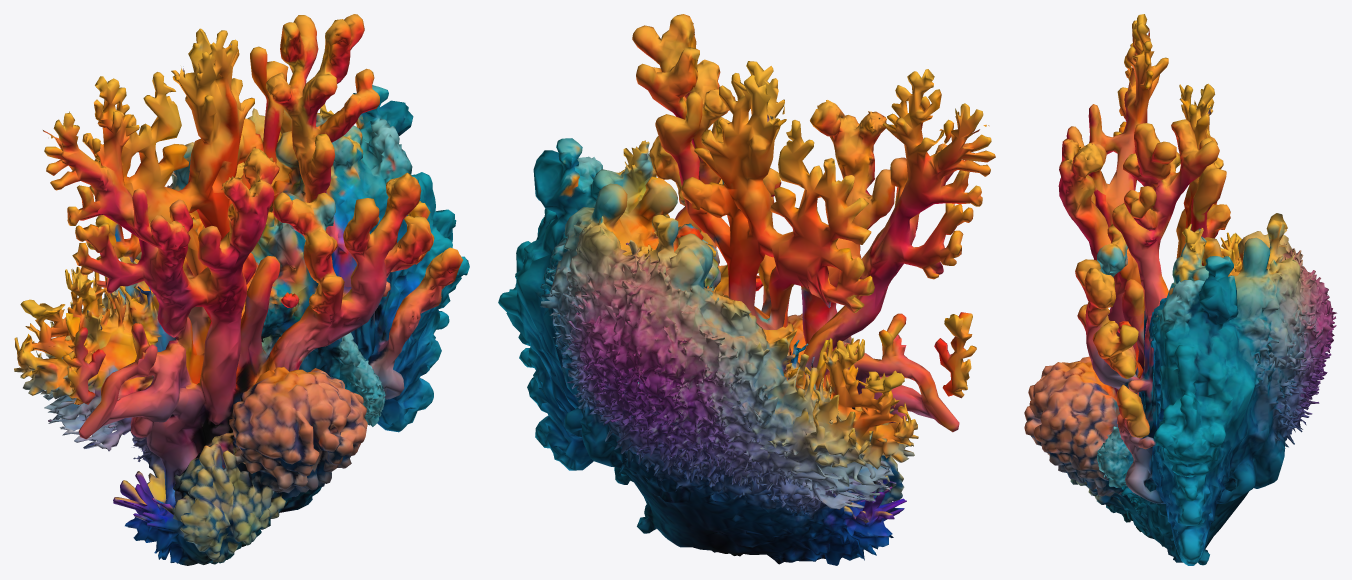
File: gm-coral-50k-2k-695c22cd2568.glb
3 views of the same model, side by side, from view 1: azimuth 30°, elevation 25°; view 2: azimuth 150°, elevation 25°; view 3: azimuth 270°, elevation 25° (orthographic). The views are drawn at different scales.
Visible parts, largest first — view 1: tripo_node_734b240a-095e-43ec-9f8c-8fe84a7f286d; view 2: tripo_node_734b240a-095e-43ec-9f8c-8fe84a7f286d; view 3: tripo_node_734b240a-095e-43ec-9f8c-8fe84a7f286d.
Boxes of the visible parts, left/top/right/bottom form: tripo_node_734b240a-095e-43ec-9f8c-8fe84a7f286d: left=14, top=14, right=469, bottom=565; tripo_node_734b240a-095e-43ec-9f8c-8fe84a7f286d: left=498, top=14, right=995, bottom=565; tripo_node_734b240a-095e-43ec-9f8c-8fe84a7f286d: left=1024, top=14, right=1336, bottom=565.
Size of the model in its own units: 0.9151 by 0.9993 by 0.6201.
1 material, 1 textured.
